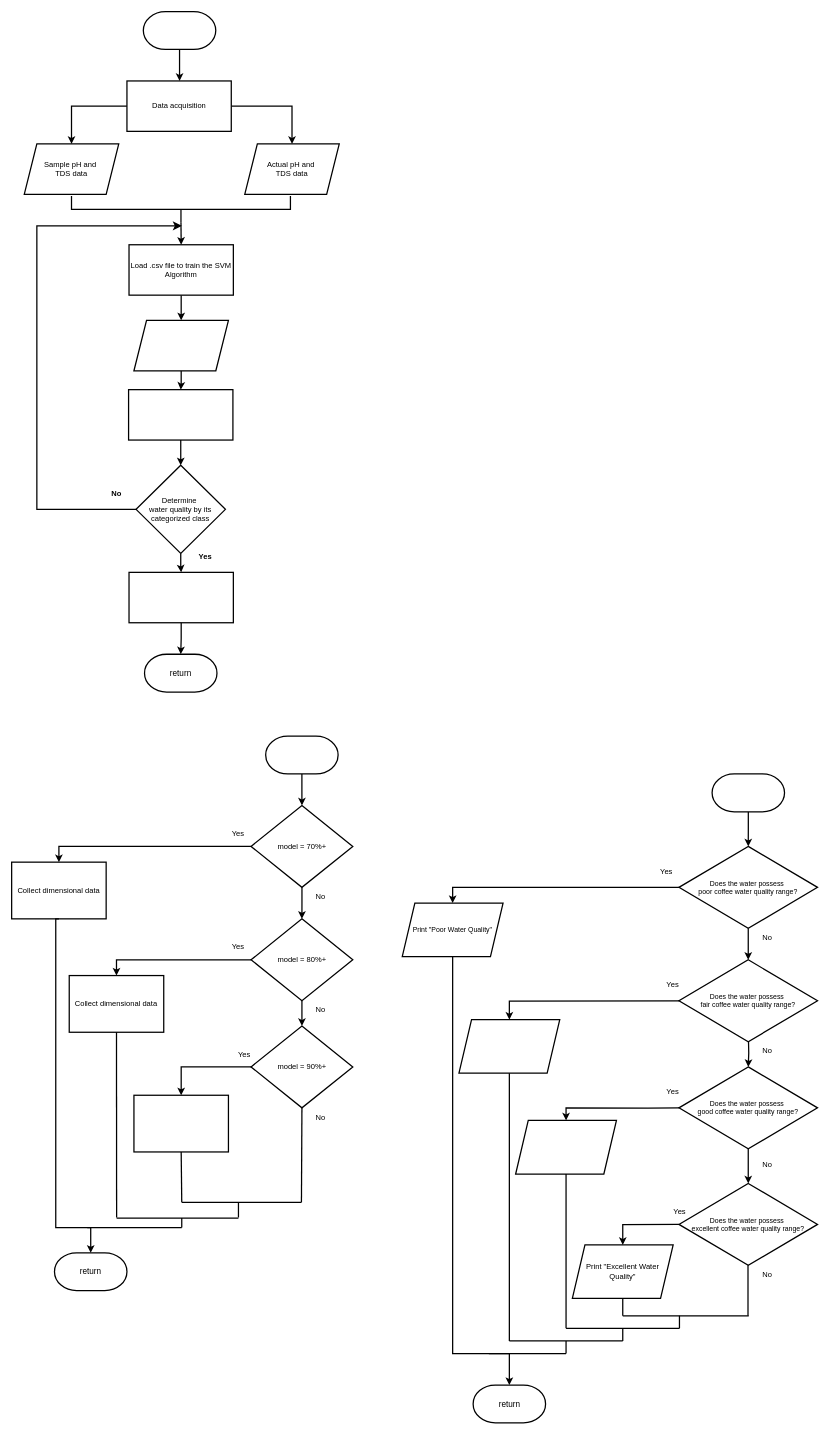
Image size: 829x1434. Some labels were removed from this diagram. The centre of each missing label's shape, as x and y in pixels:
Assign the water quality by its categorized class: point (181, 345)
classification(): point (748, 792)
Feed data into SVM to improve algorithm: point (180, 414)
Monitor water quality of coffee: point (181, 1123)
Print "Fair Water Quality": point (509, 1046)
Print "Good Water Quality": point (566, 1147)
Save data: point (181, 597)
svm(): point (179, 30)
trainedModels(): point (301, 754)
